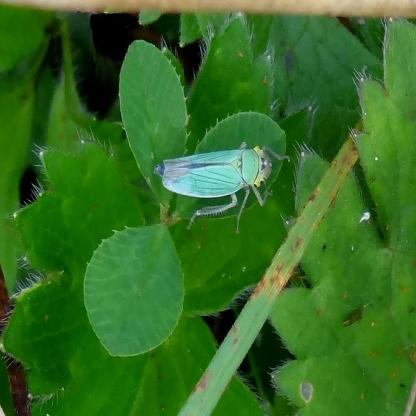Green-Leafhopper: (150, 144, 296, 228)
